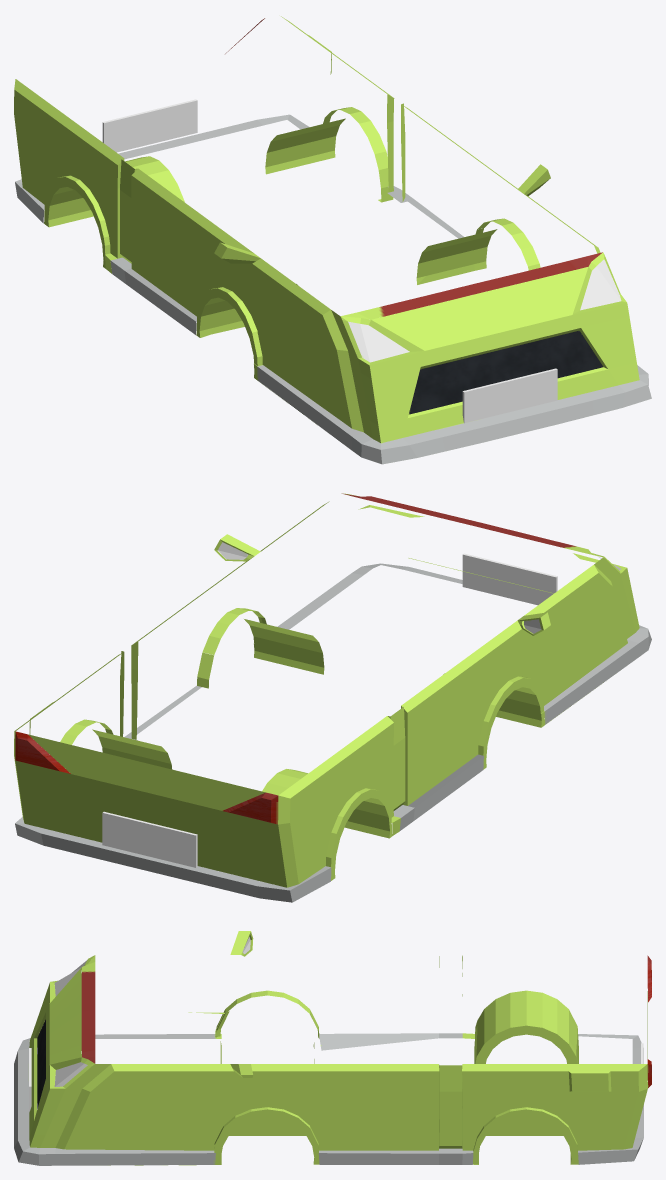
Rendered from SPORT-BOTTOM-3wCDaz8x.glb.
The picture shows the model from 3 angles, top to bottom: view 1: azimuth 30°, elevation 25°; view 2: azimuth 150°, elevation 25°; view 3: azimuth 270°, elevation 25°; orthographic projection. The views are drawn at different scales.
Size of the model in its own units: 1.88 by 0.7001 by 3.71.
Materials: 2 (2 with a texture image).
